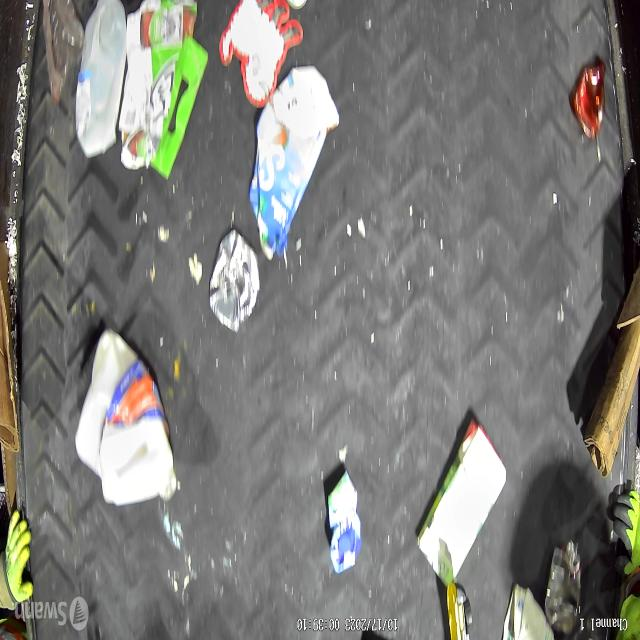can: (210, 230, 260, 333), (545, 540, 582, 636)
milk_jug: (75, 330, 177, 507), (74, 0, 124, 161)
non_white_jug: (249, 68, 340, 260)
